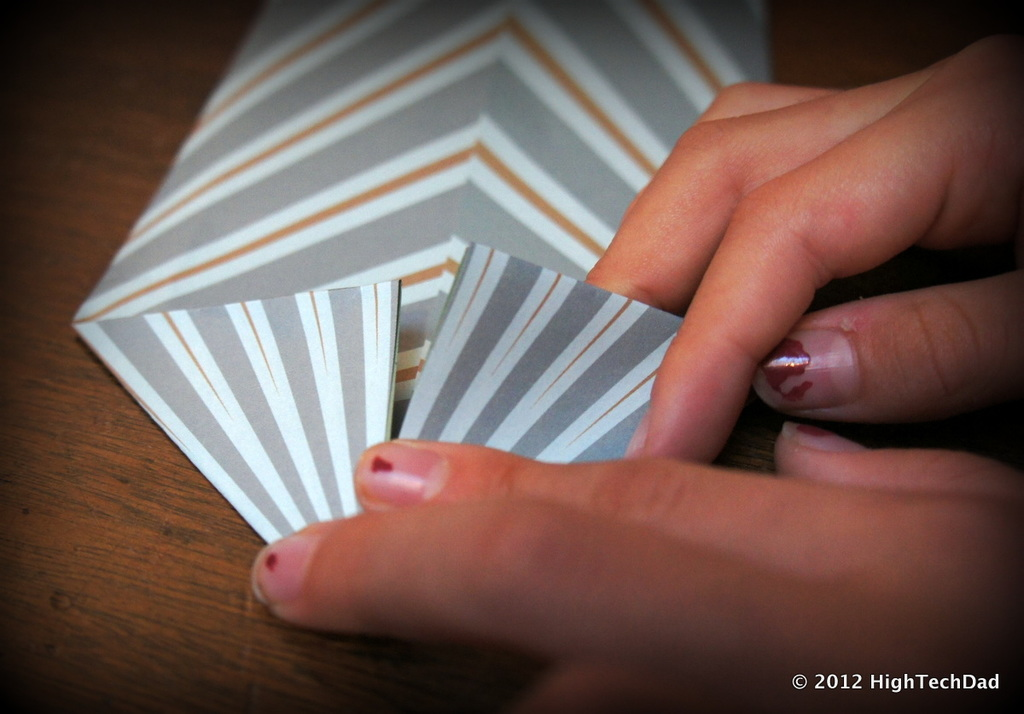Human_hand: (247, 421, 1023, 713), (602, 15, 1019, 441)
